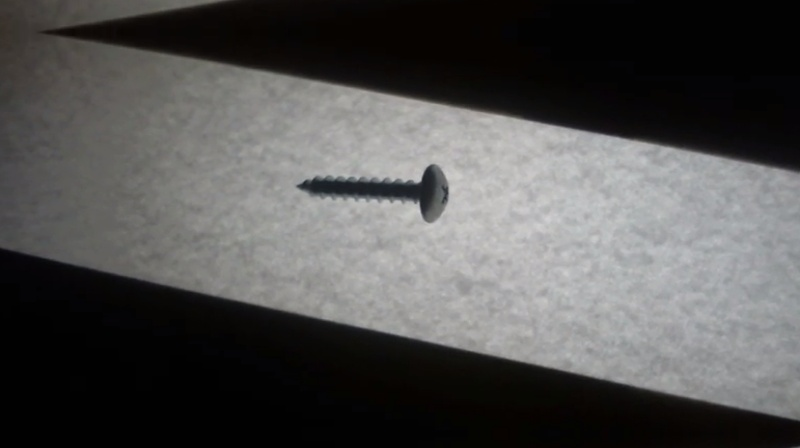S003: (291, 160, 454, 224)
